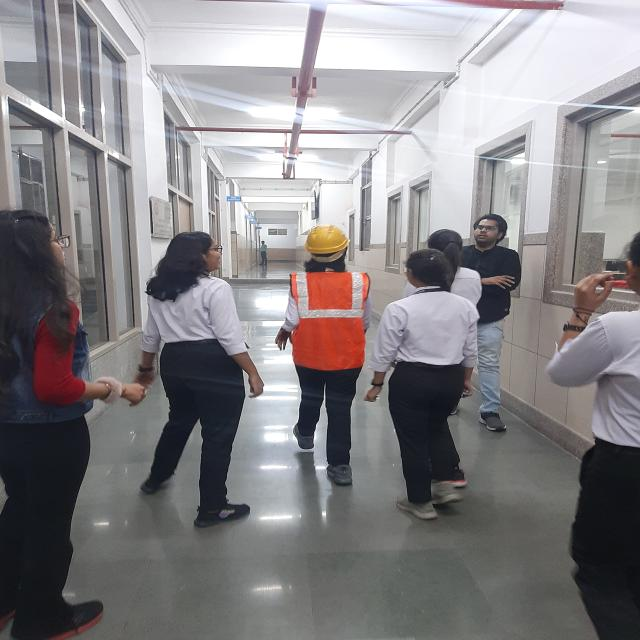safe: (276, 223, 371, 488)
unsafe: (0, 203, 137, 640), (138, 230, 274, 530), (370, 248, 482, 523), (458, 213, 524, 433)
